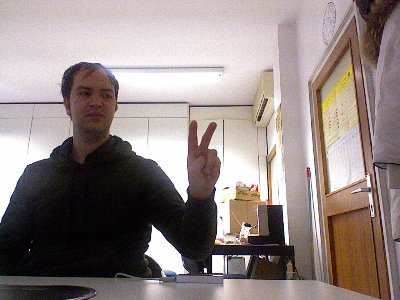剪刀: (183, 119, 223, 200)
